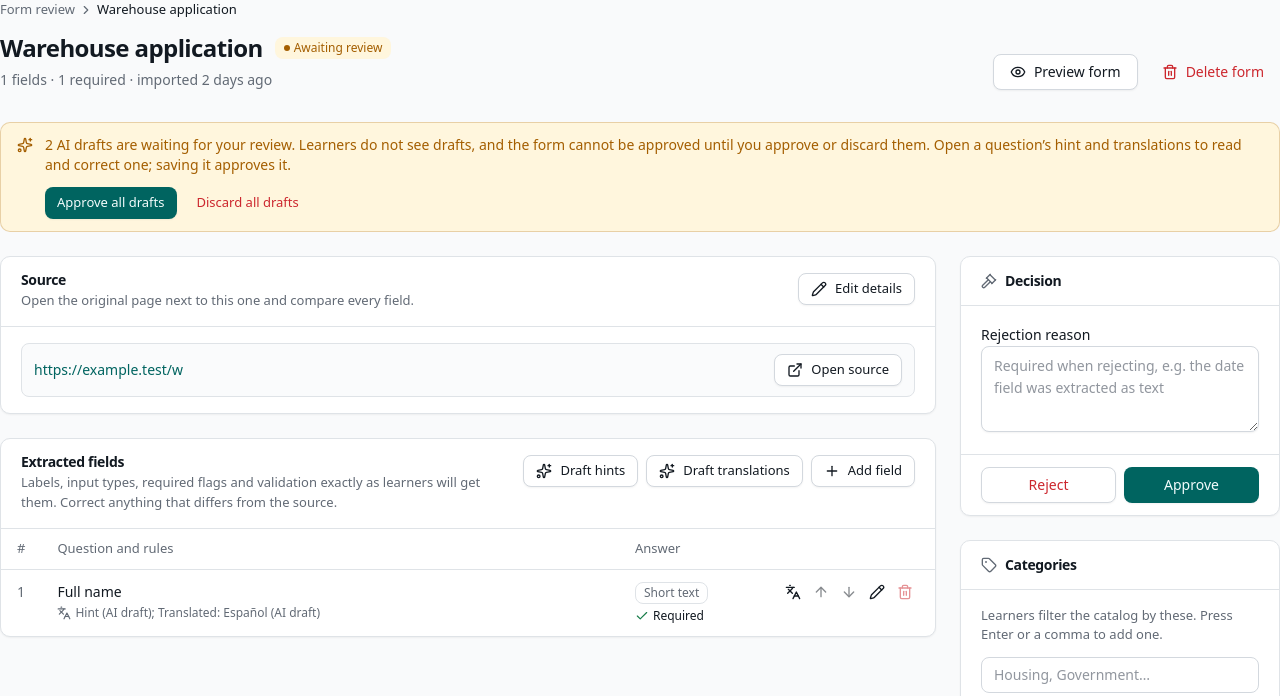
Test: AI drafts › the form cannot be approved while drafts wait; approving the drafts allows it
Click the button "Approve" at (1192, 485), box [1124,467,1259,503]
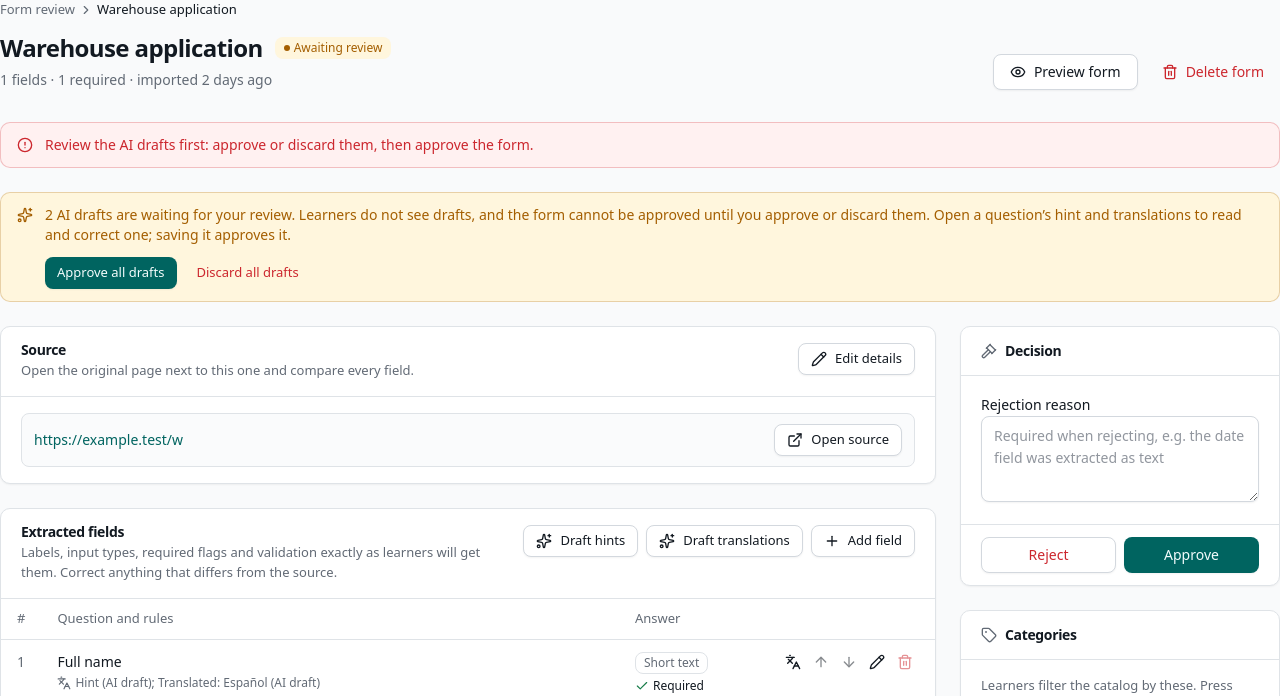
Expected: the message "Review the AI drafts first: approve or discard them, then approve the form." is shown, [0,122,1279,168]
Click the button "Approve all drafts" at (111, 272), box [45,256,176,288]
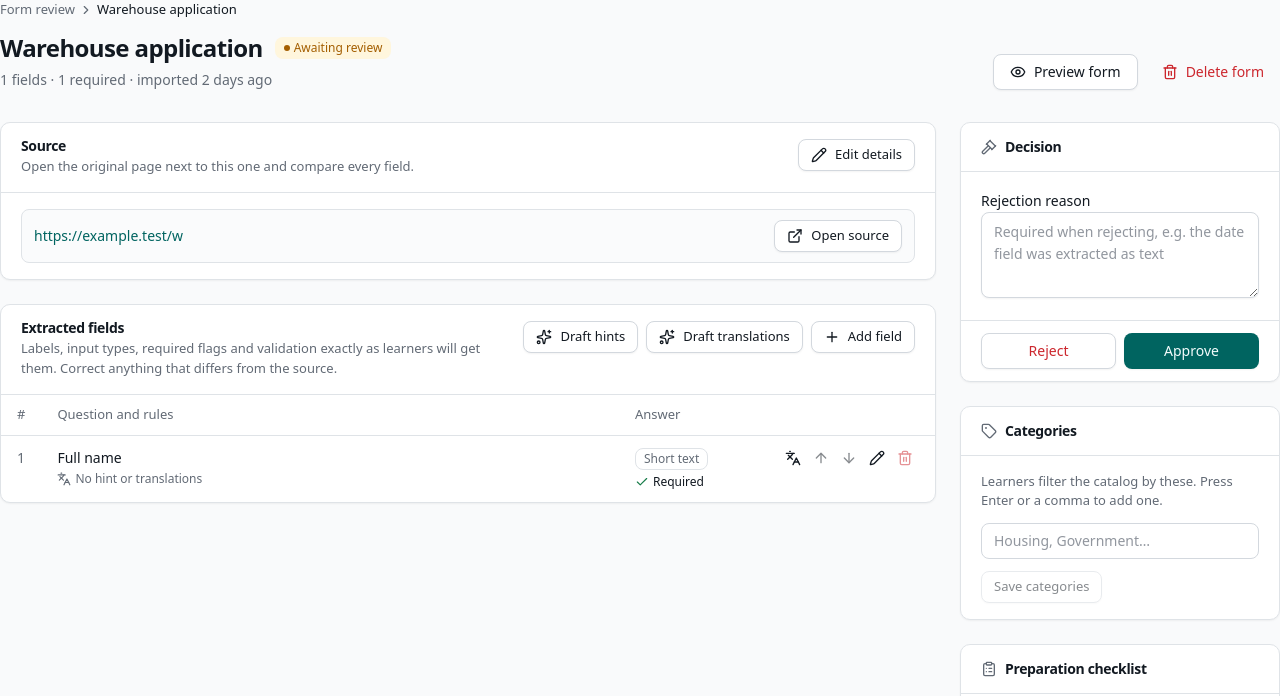
Expected: the text "waiting for your review" is gone
Click the button "Approve" at (1192, 351), box [1124,333,1259,369]
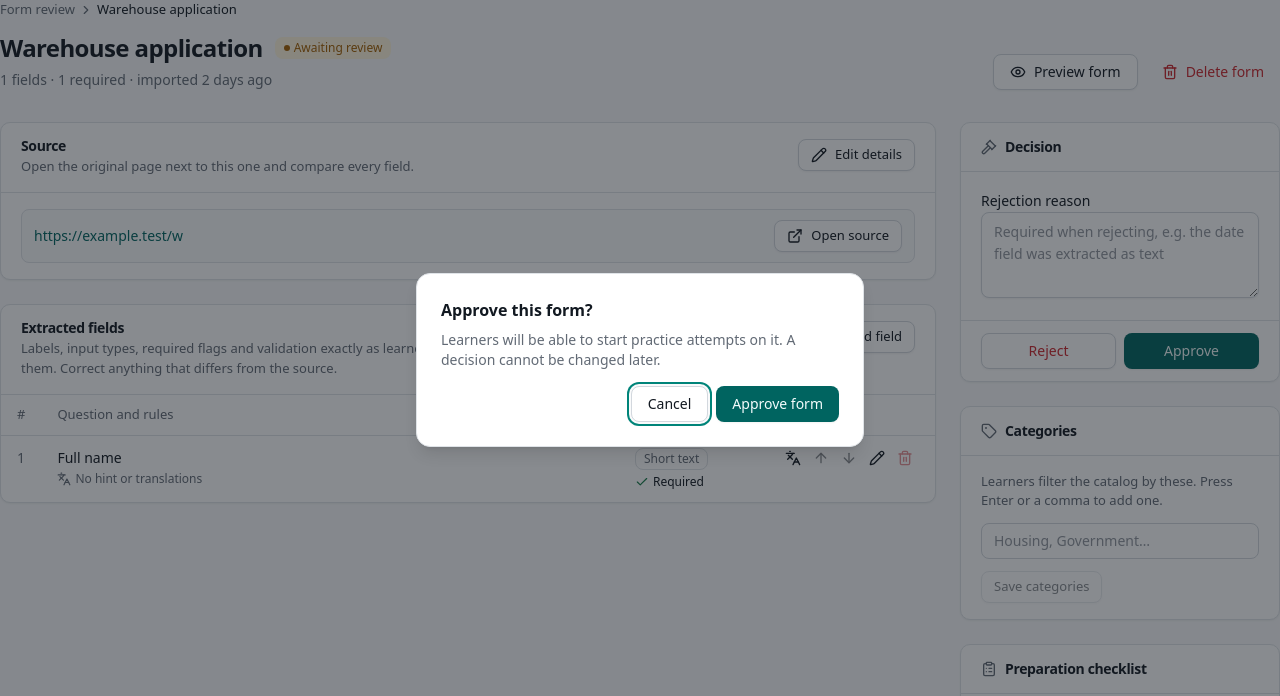
Expected: the dialog is shown, [416,273,864,447]
